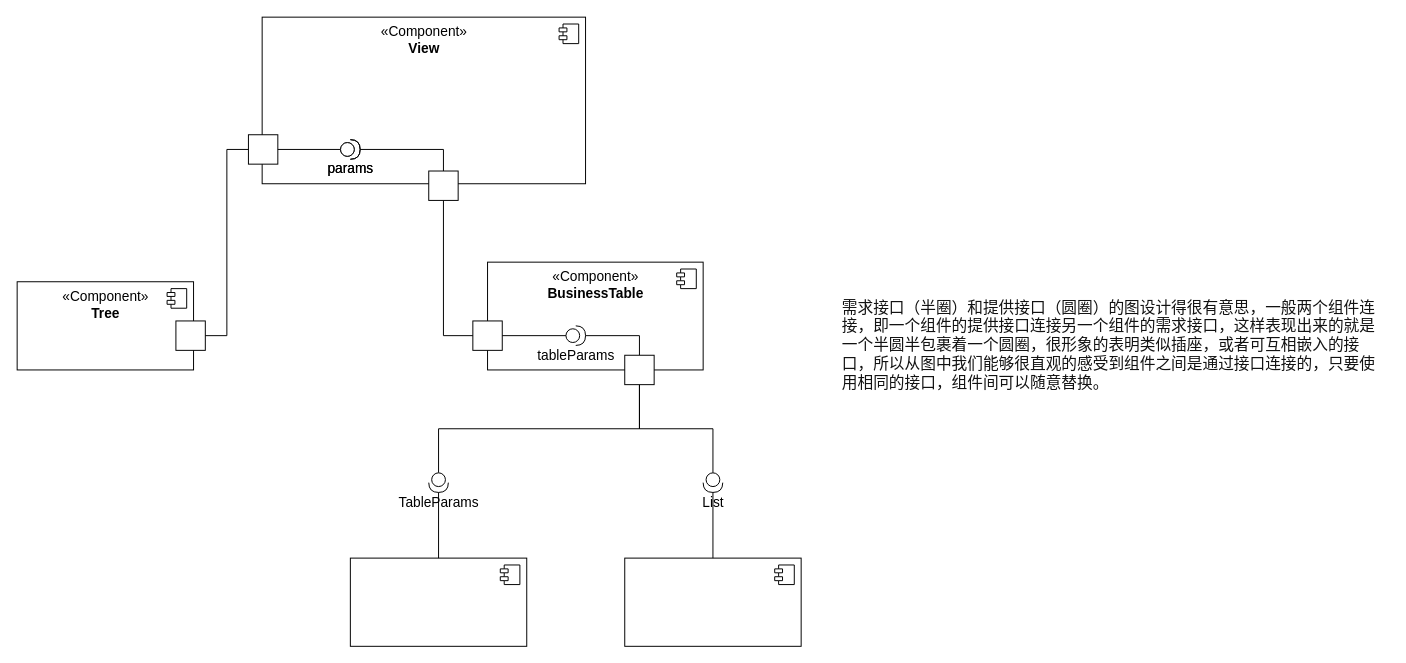
The diagram is 1406 pixels wide and 663 high, and some of its shapes have lost their labels. Each missing label, with the centre of its shape:
«Component» Table: point 712,601
«Component» ToolBar: point 438,601
